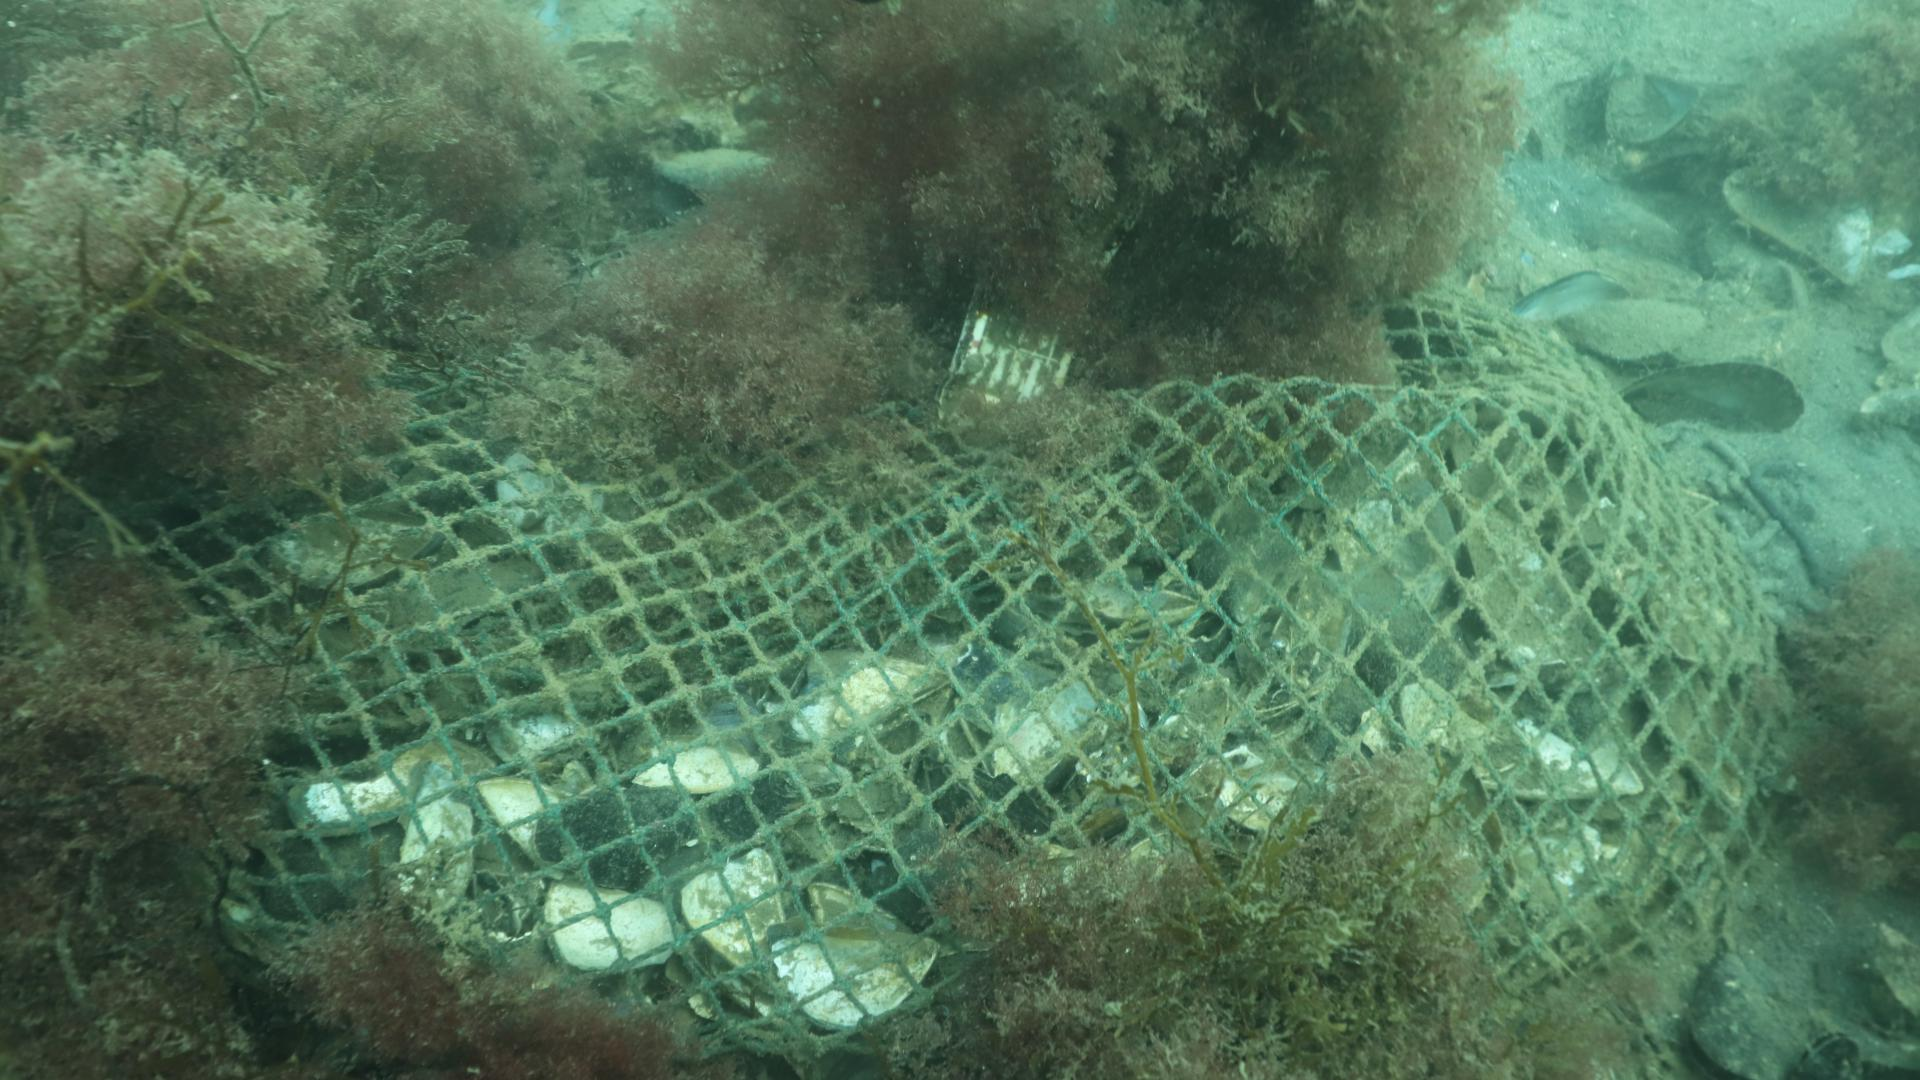fish net: (104, 287, 1791, 1062)
